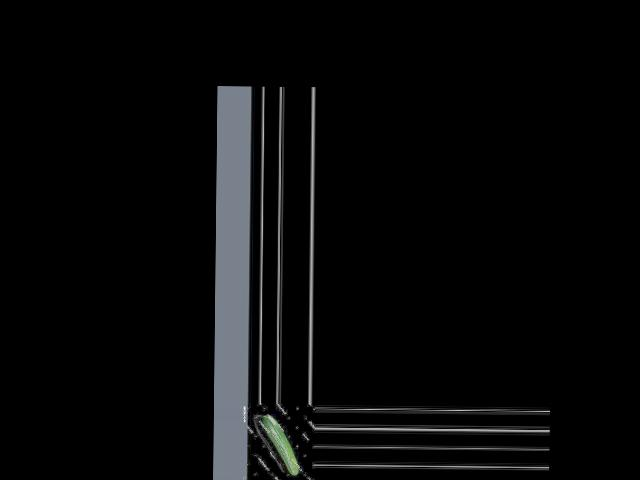cucumber: (260, 414, 299, 476)
